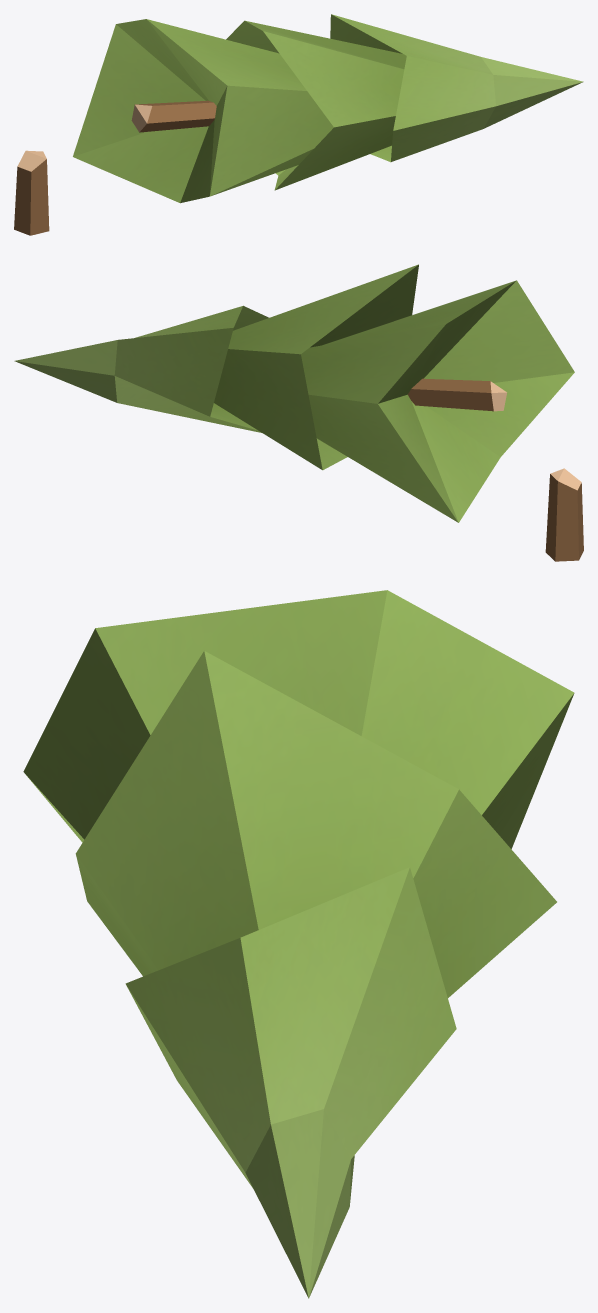
The model's file is pine-tree-crk-s-02.glb.
3 views of the same model, one above another, from view 1: azimuth 30°, elevation 25°; view 2: azimuth 150°, elevation 25°; view 3: azimuth 270°, elevation 25° (orthographic). The views are drawn at different scales.
Visible parts, largest first — view 1: Pine_Tree_crk_s_02; view 2: Pine_Tree_crk_s_02; view 3: Pine_Tree_crk_s_02.
Part boxes in pixels (box(x1,y1,x2,y2)): Pine_Tree_crk_s_02: box(14, 14, 583, 235); Pine_Tree_crk_s_02: box(14, 264, 583, 561); Pine_Tree_crk_s_02: box(23, 590, 574, 1298).
Size of the model in its own units: 3.57 by 1.17 by 1.56.
Materials: 1 (1 with a texture image).
